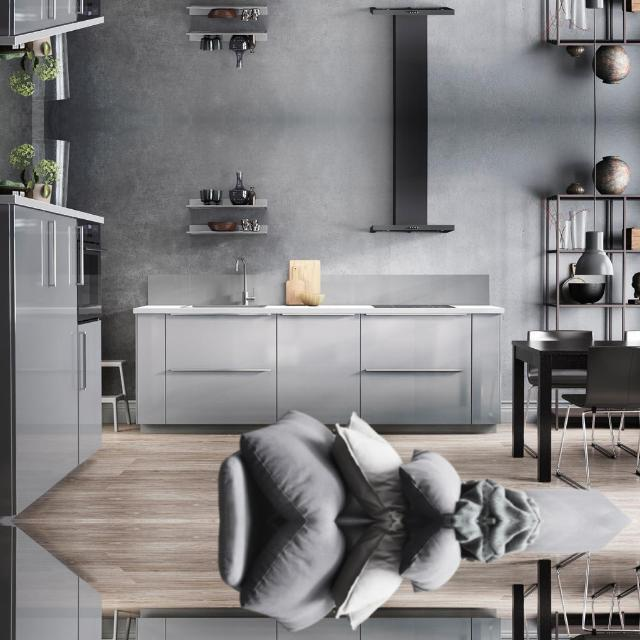obstacle: (132, 307, 504, 435), (0, 192, 116, 512), (219, 431, 623, 521), (219, 521, 623, 611), (507, 320, 640, 488), (0, 528, 115, 640), (132, 607, 504, 640), (507, 554, 640, 640), (0, 0, 115, 46)
